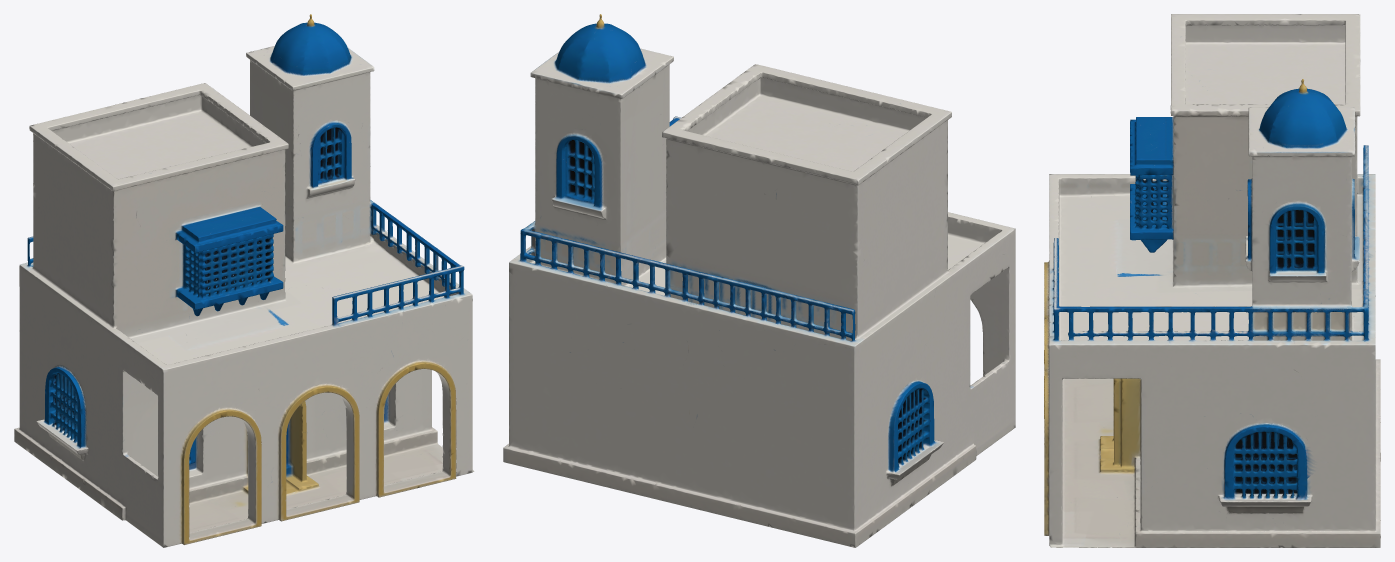
Rendered from Meshy_AI_Blue_Dome_Villa_20261027_texture.fbx.
3 renders of one model, left to right at view 1: azimuth 30°, elevation 25°; view 2: azimuth 150°, elevation 25°; view 3: azimuth 270°, elevation 25°, orthographic. The views are drawn at different scales.
Parts seen in each view (by area): view 1: Mesh_0; view 2: Mesh_0; view 3: Mesh_0.
Boxes of the visible parts, <box> form: Mesh_0: <box>14,14,474,547</box>; Mesh_0: <box>503,14,1015,547</box>; Mesh_0: <box>1044,14,1380,547</box>.
Bounding box in the file's own units: 170 × 190 × 132.
1 material, 1 textured.
